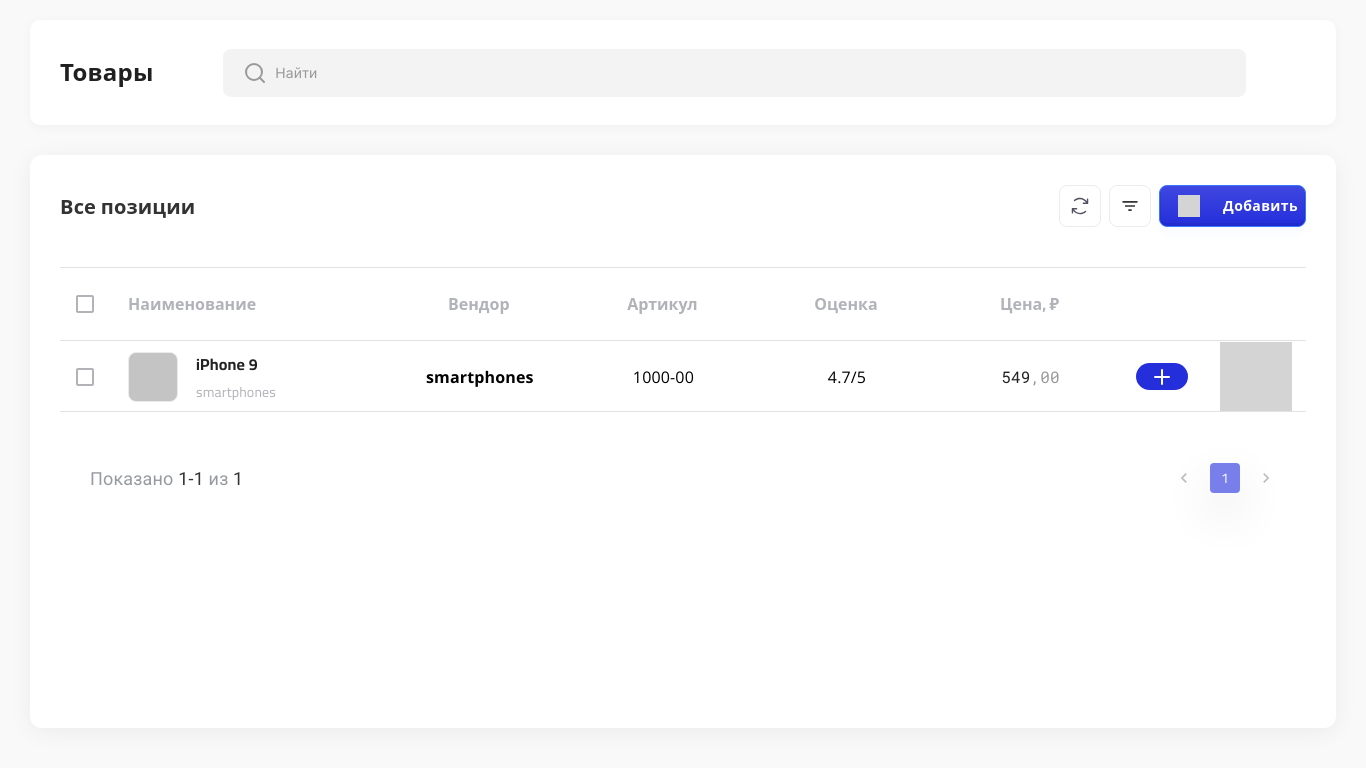
Test: ProductsCreateProductForm › creates product successfully and shows success snackbar
Expected: the text "Все позиции" is shown, [60,188,196,224]
Click the button "Добавить".
click(1232, 206)  # box [1159,185,1306,227]
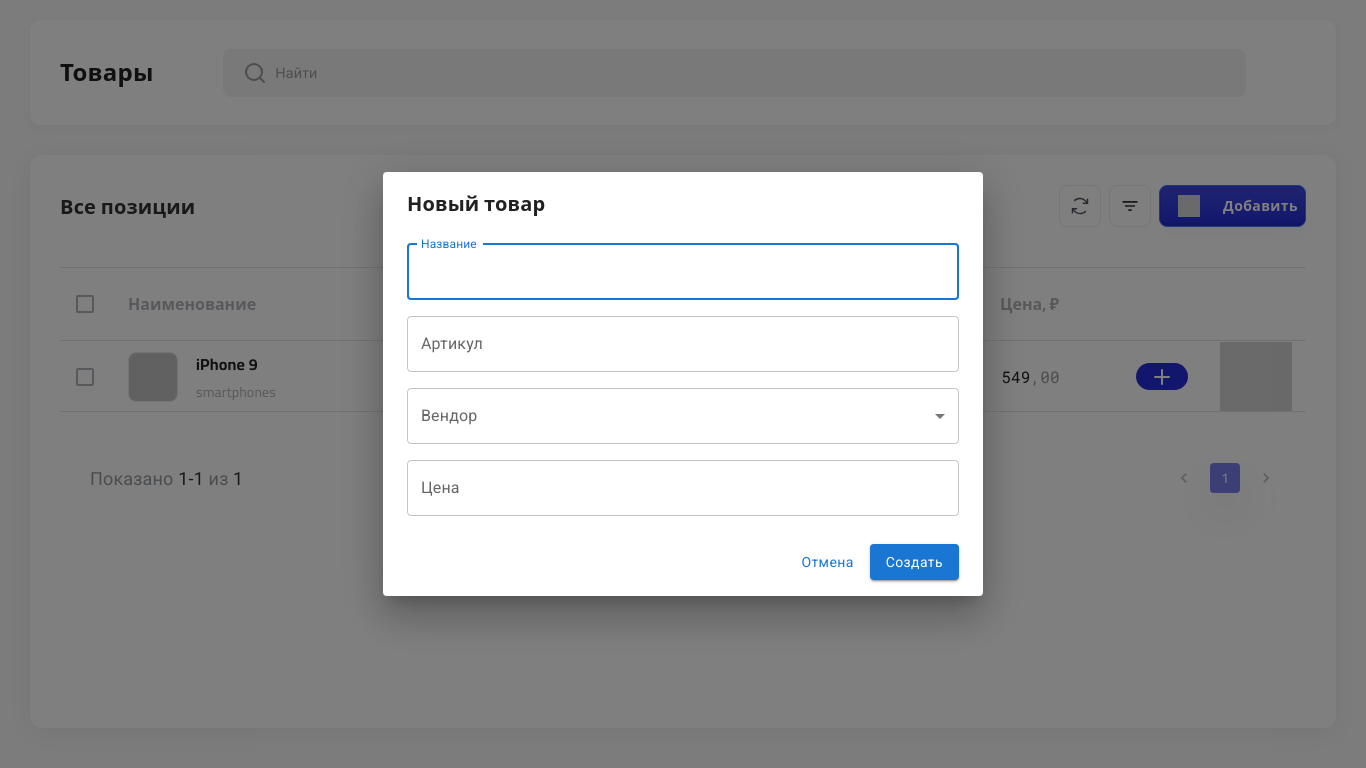
Result: the heading "Новый товар" is shown at [407,185,545,222]
Type "Created" into the field labelled "Название".
click(683, 272); type("Created")  # box [407,244,959,300]
Type "SKU-123" into the field labelled "Артикул".
click(683, 344); type("SKU-123")  # box [407,316,959,372]
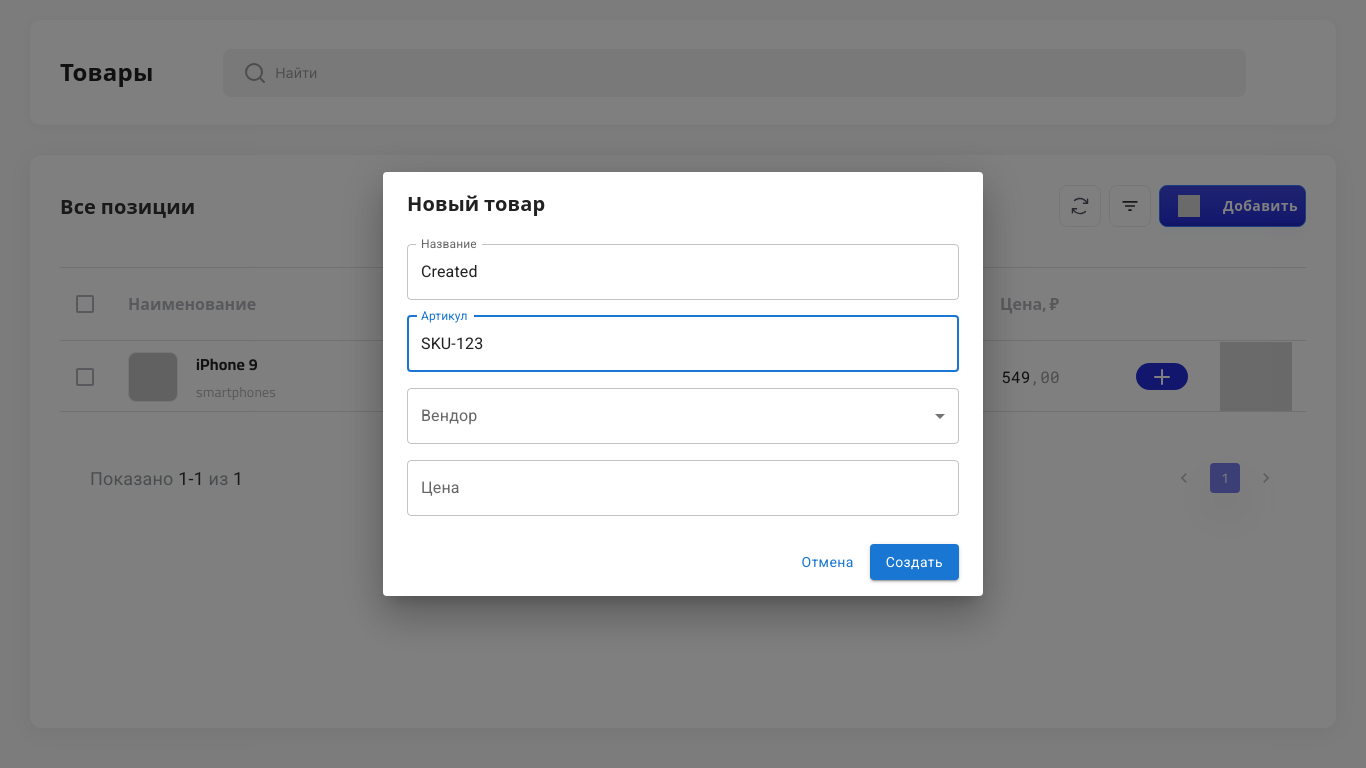
Click the dropdown named "Вендор".
click(683, 416)  # box [407,388,959,444]
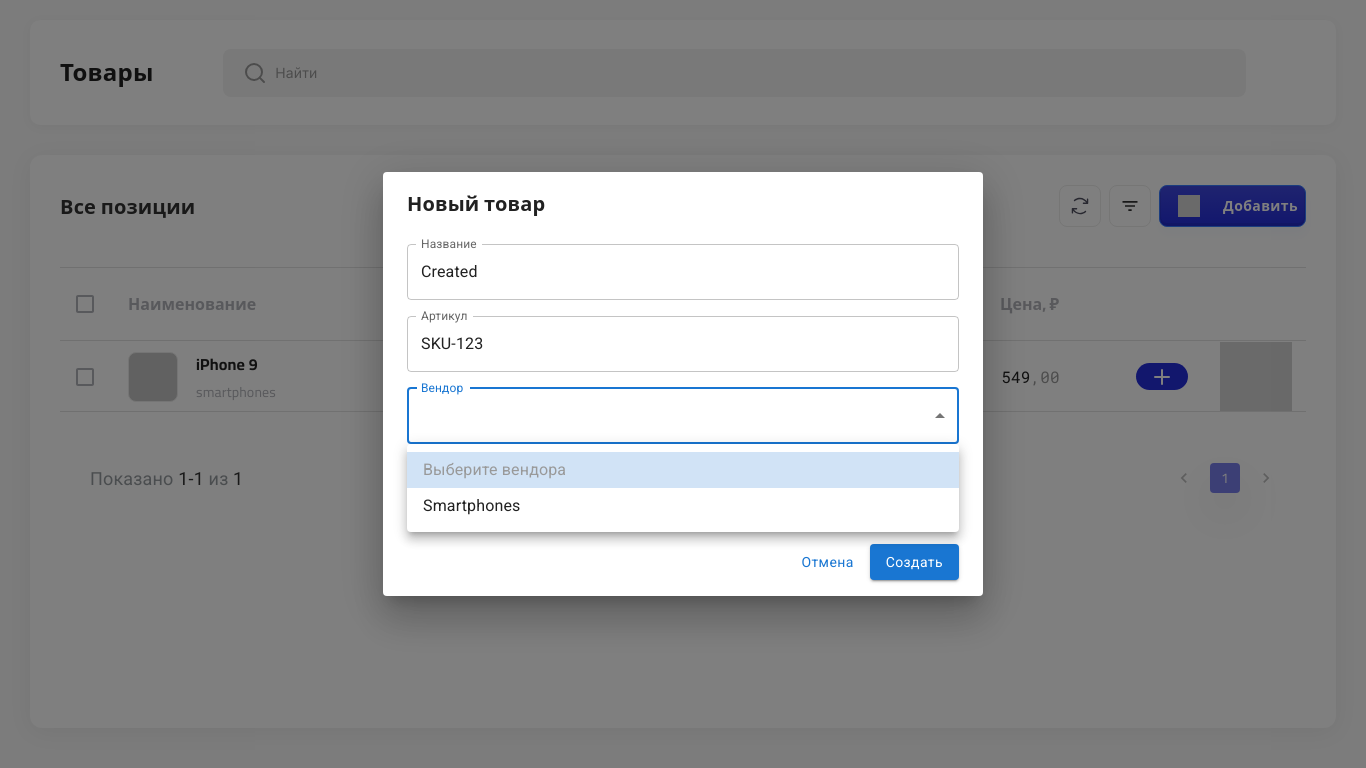
Click the option "Smartphones".
click(472, 506)  # box [423,496,520,515]
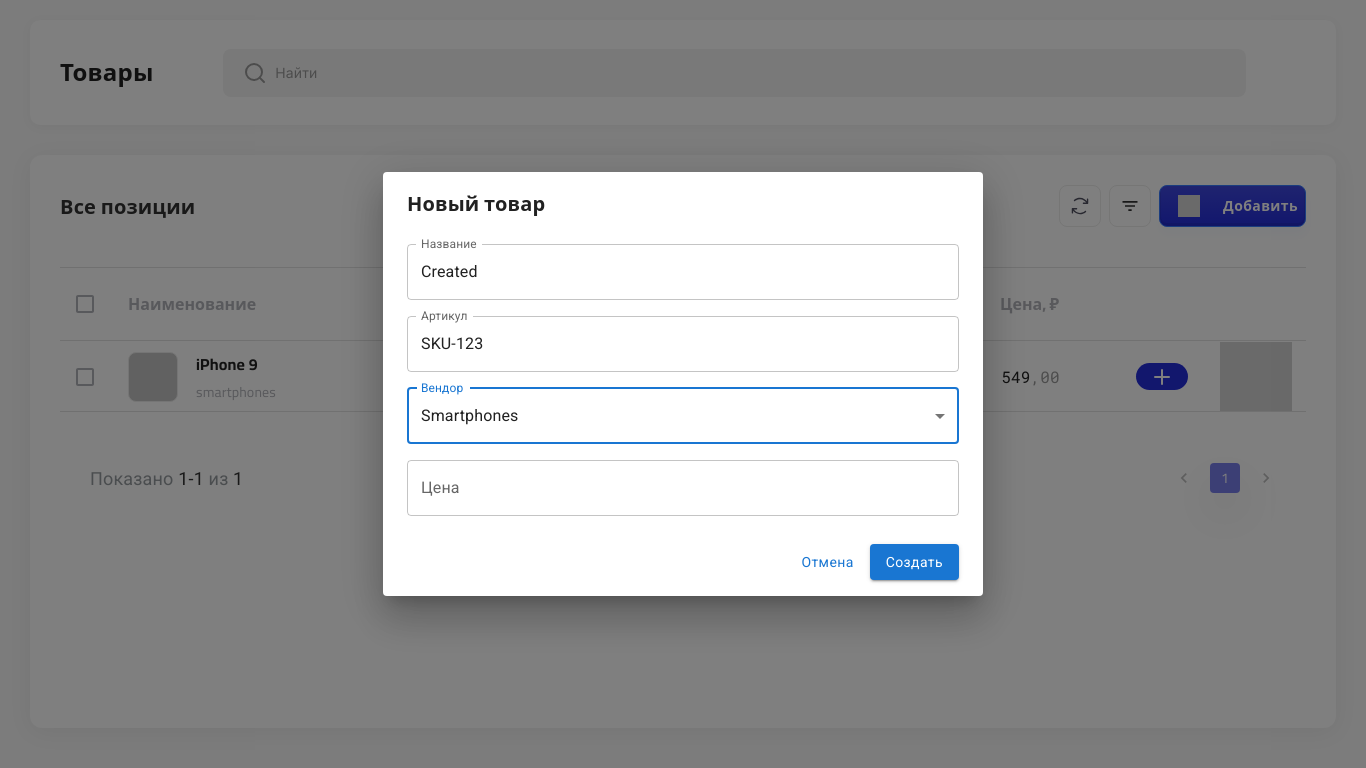
Type "123" into the number field labelled "Цена".
click(683, 488); type("123")  # box [407,460,959,516]
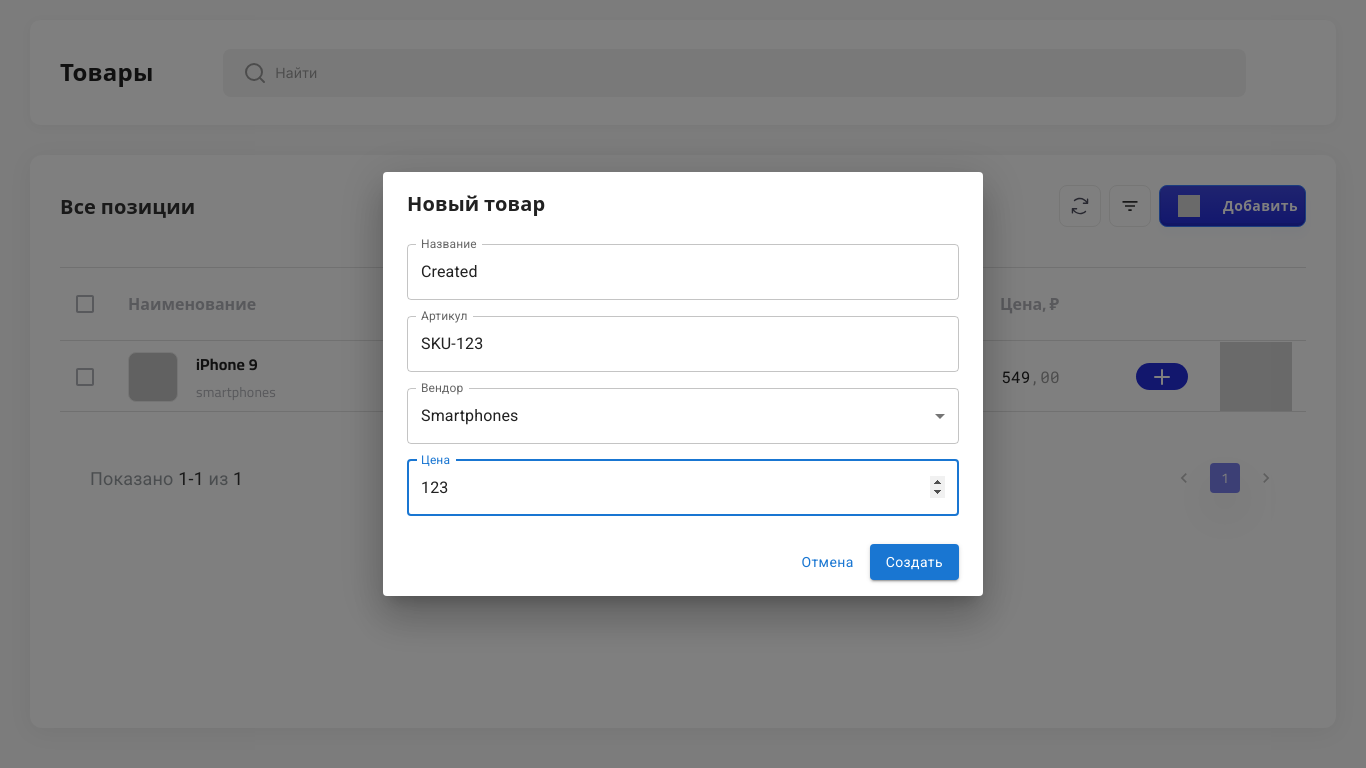
Click the button "Создать".
click(914, 562)  # box [870,544,959,580]
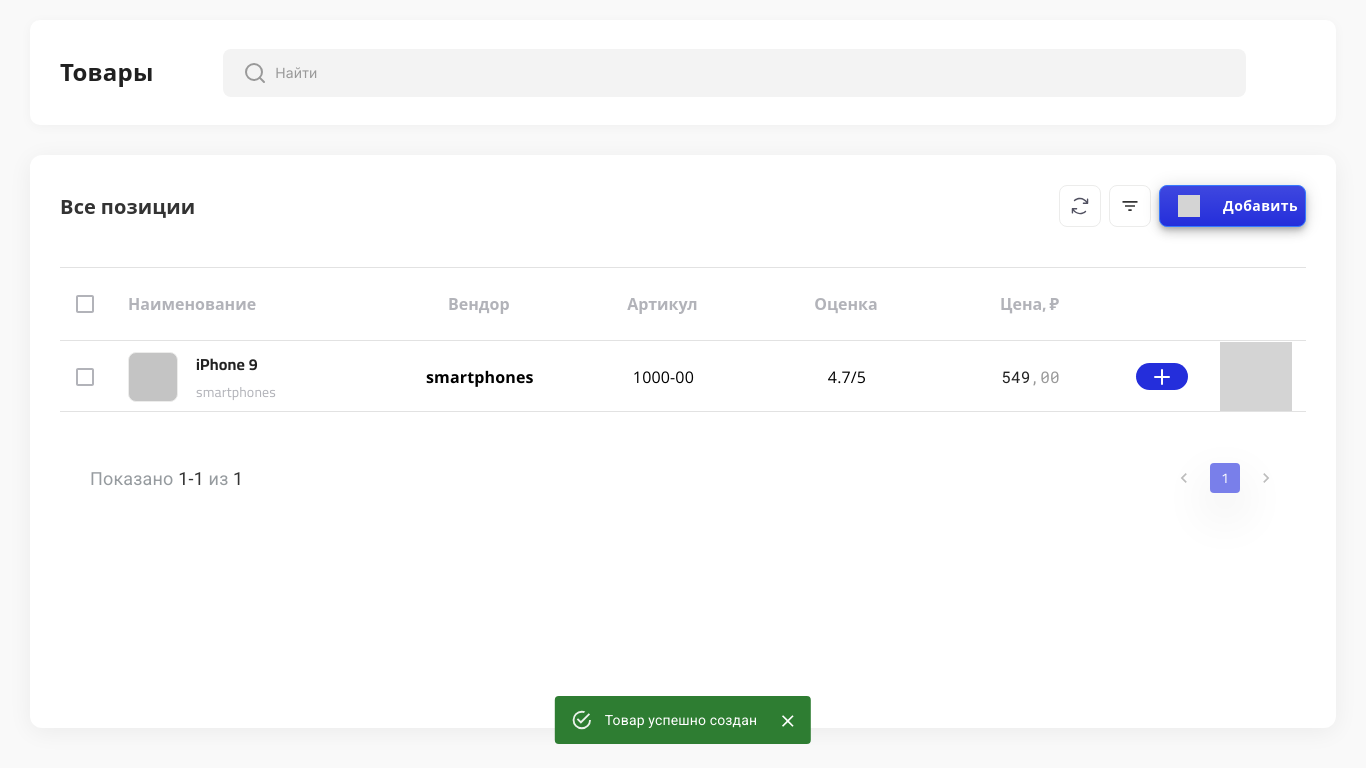
Result: the text "Товар успешно создан" is shown at [605,712,757,728]
